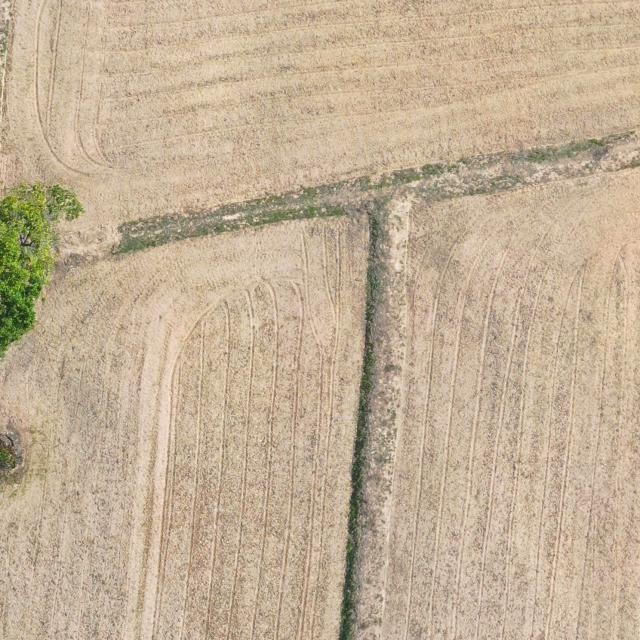Tree: (0, 180, 87, 357)
